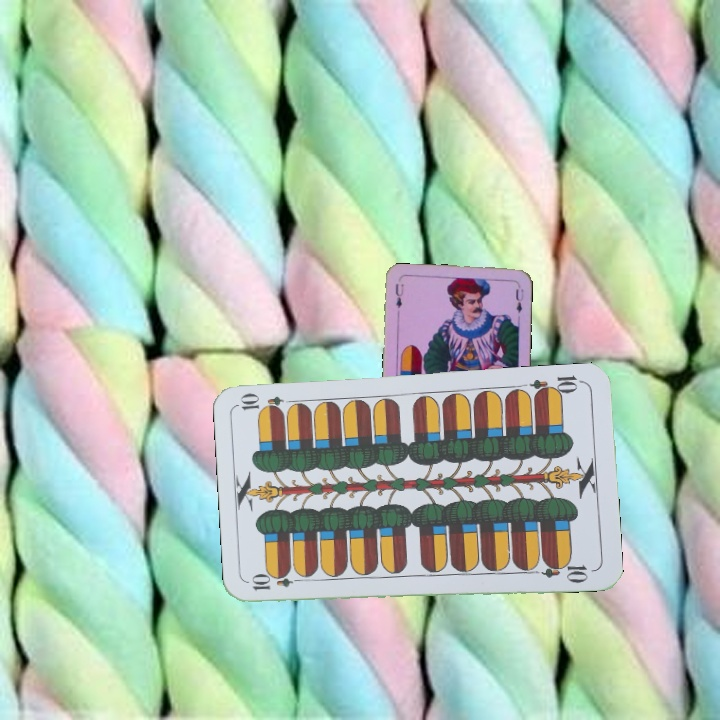E10: (527, 371, 586, 400), (247, 572, 307, 593)
EU: (391, 280, 406, 310)
